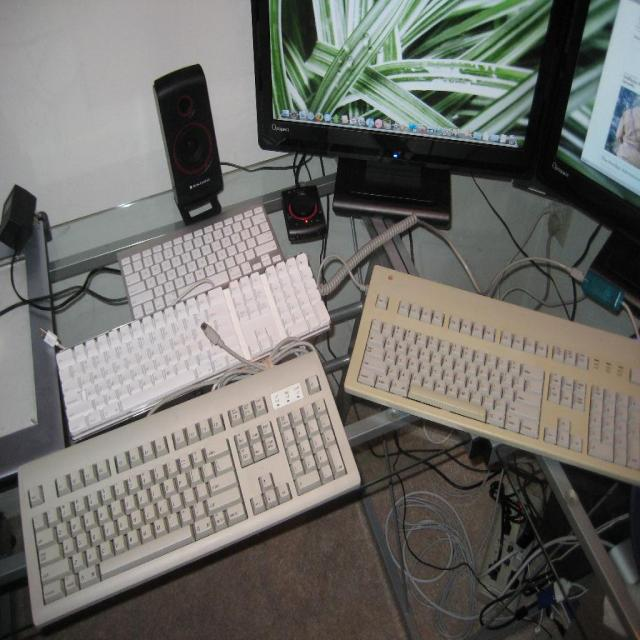desk: (0, 137, 640, 640)
keyboard: (16, 344, 362, 634), (52, 200, 334, 446), (343, 263, 640, 485)
tv: (255, 2, 590, 186), (536, 1, 640, 242)
